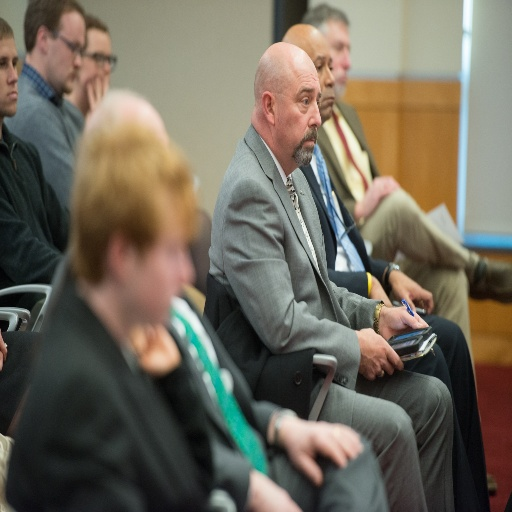hand: (278, 417, 362, 483), (363, 328, 402, 393), (246, 468, 302, 511), (389, 266, 433, 310), (357, 177, 401, 220), (380, 305, 428, 342), (85, 74, 110, 110), (0, 329, 9, 374)
